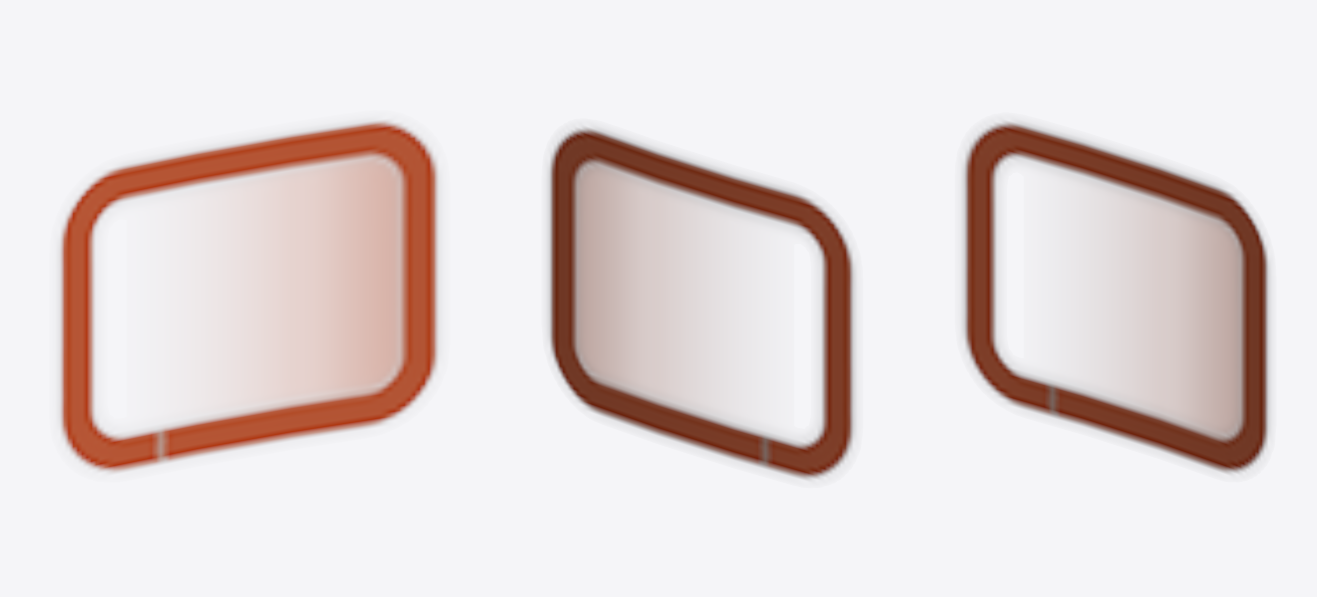
Rendered from minimap1.glb.
3 views of the same model, side by side, from view 1: azimuth 30°, elevation 25°; view 2: azimuth 150°, elevation 25°; view 3: azimuth 330°, elevation 25° (orthographic). The views are drawn at different scales.
Parts seen in each view (by area): view 1: menu_2_map0; view 2: menu_2_map0; view 3: menu_2_map0.
Part boxes in pixels (bbox=[...]): menu_2_map0: bbox=[57, 118, 441, 474]; menu_2_map0: bbox=[548, 126, 855, 480]; menu_2_map0: bbox=[962, 121, 1269, 474].
Bounding box in the file's own units: 1.76 × 1.85 × 0.217.
Materials: 1 (1 with a texture image).
